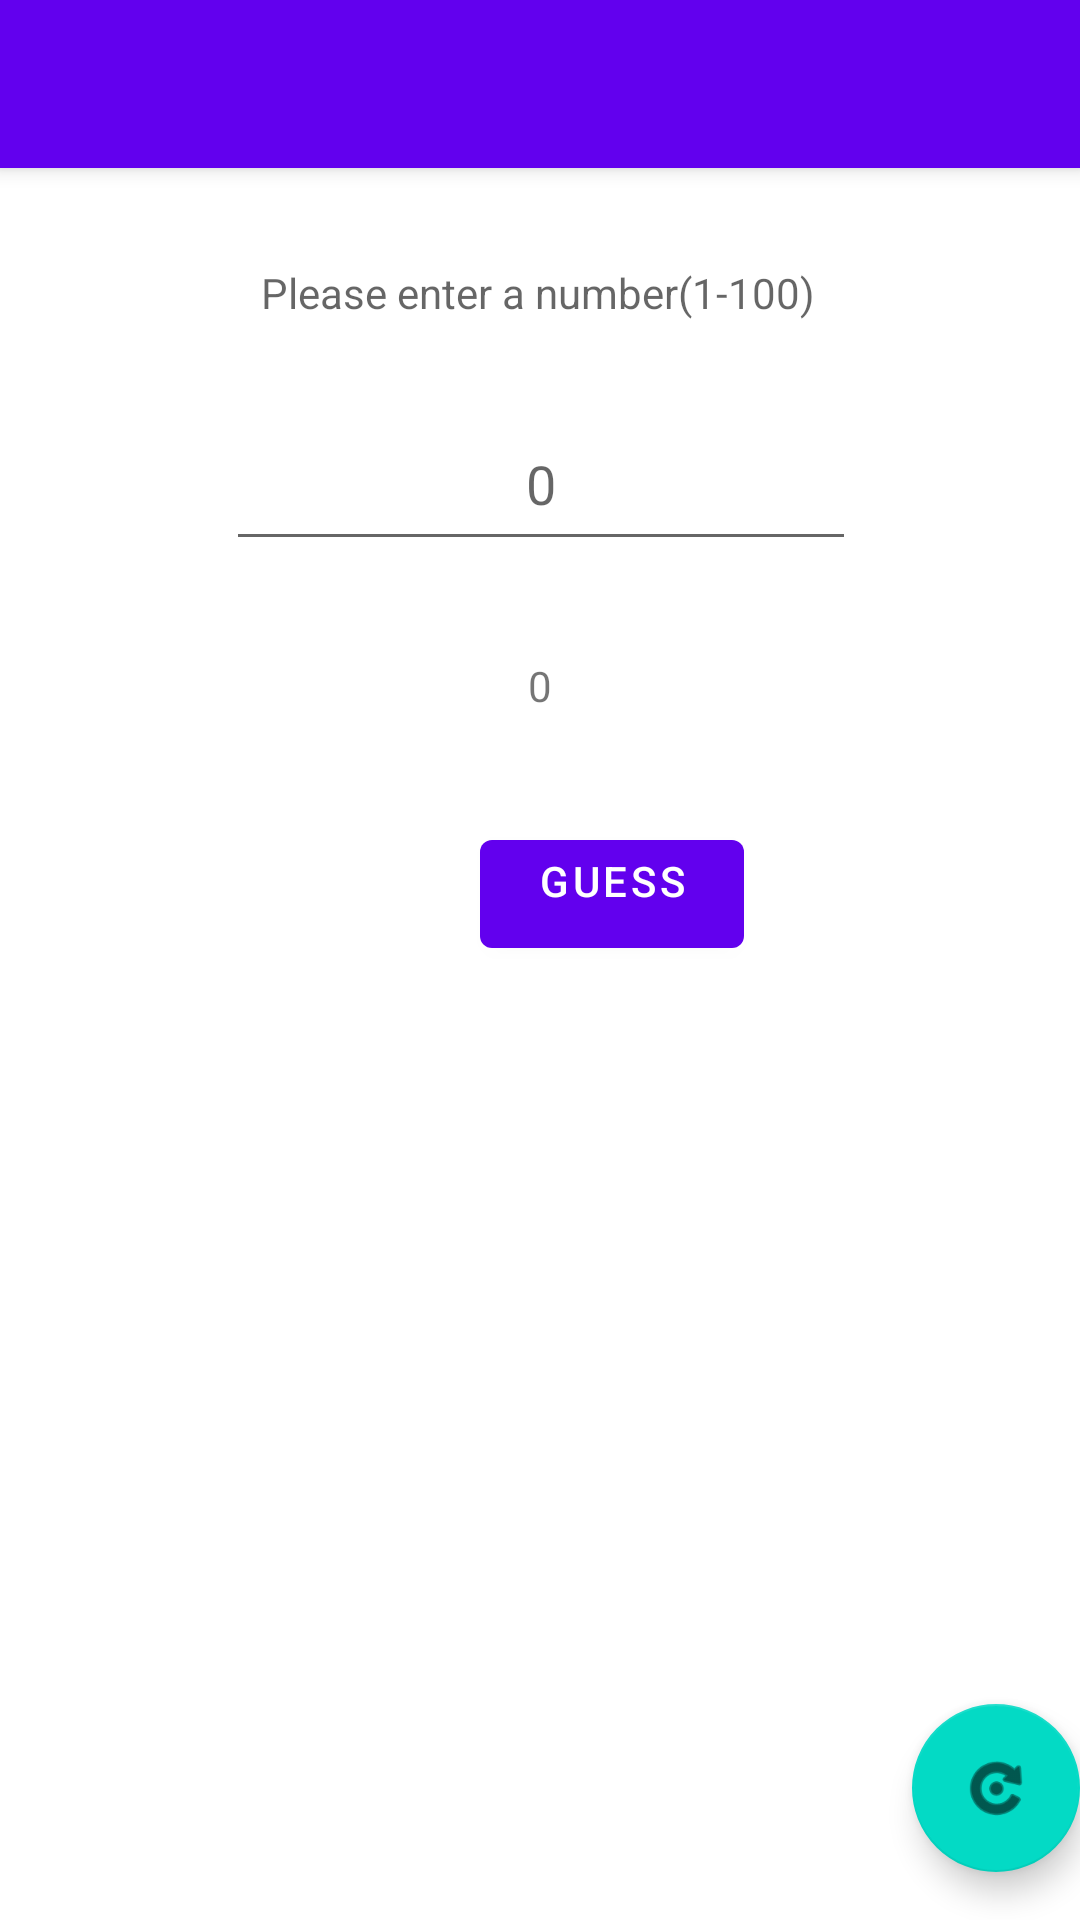

Where icons sit on this 1080×1920 app screen, as (x1, y1, x2, y2):
rotate: (912, 1704, 1080, 1872)
